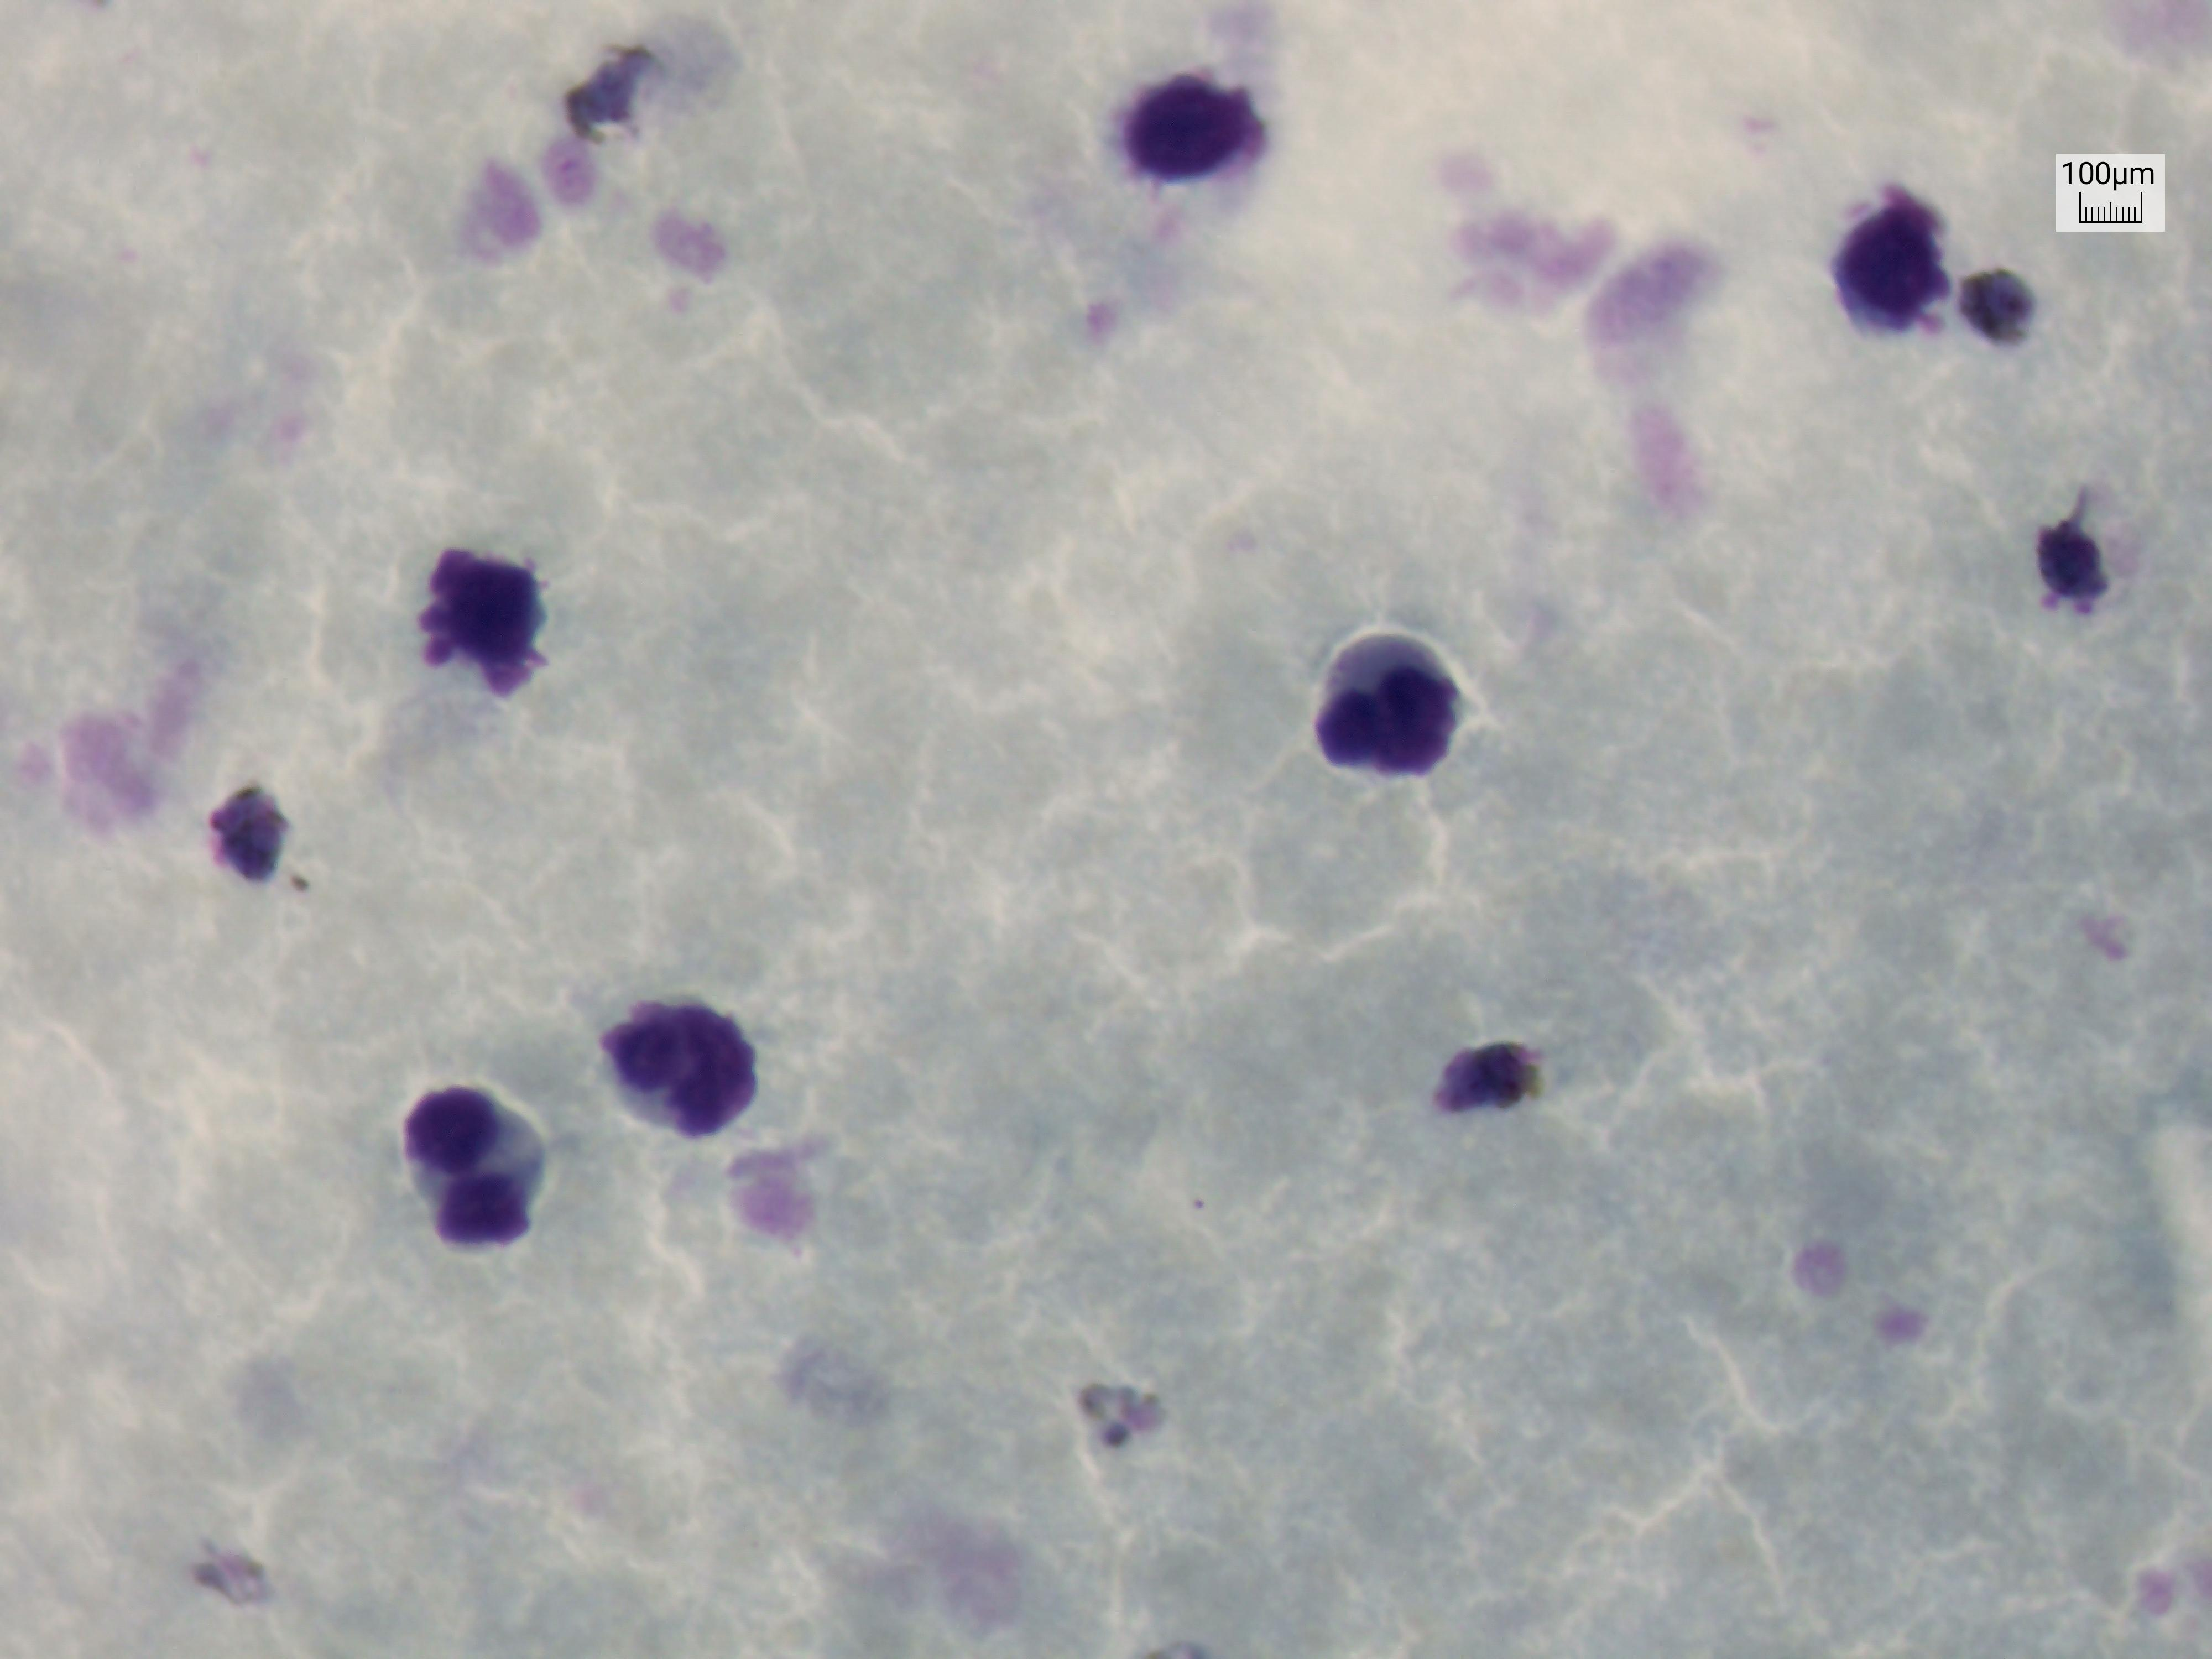p.vivax: (1407, 1012, 1588, 1154), (540, 17, 693, 173), (2020, 467, 2144, 648), (1059, 1361, 1197, 1502), (183, 758, 301, 922), (1952, 240, 2055, 362)
